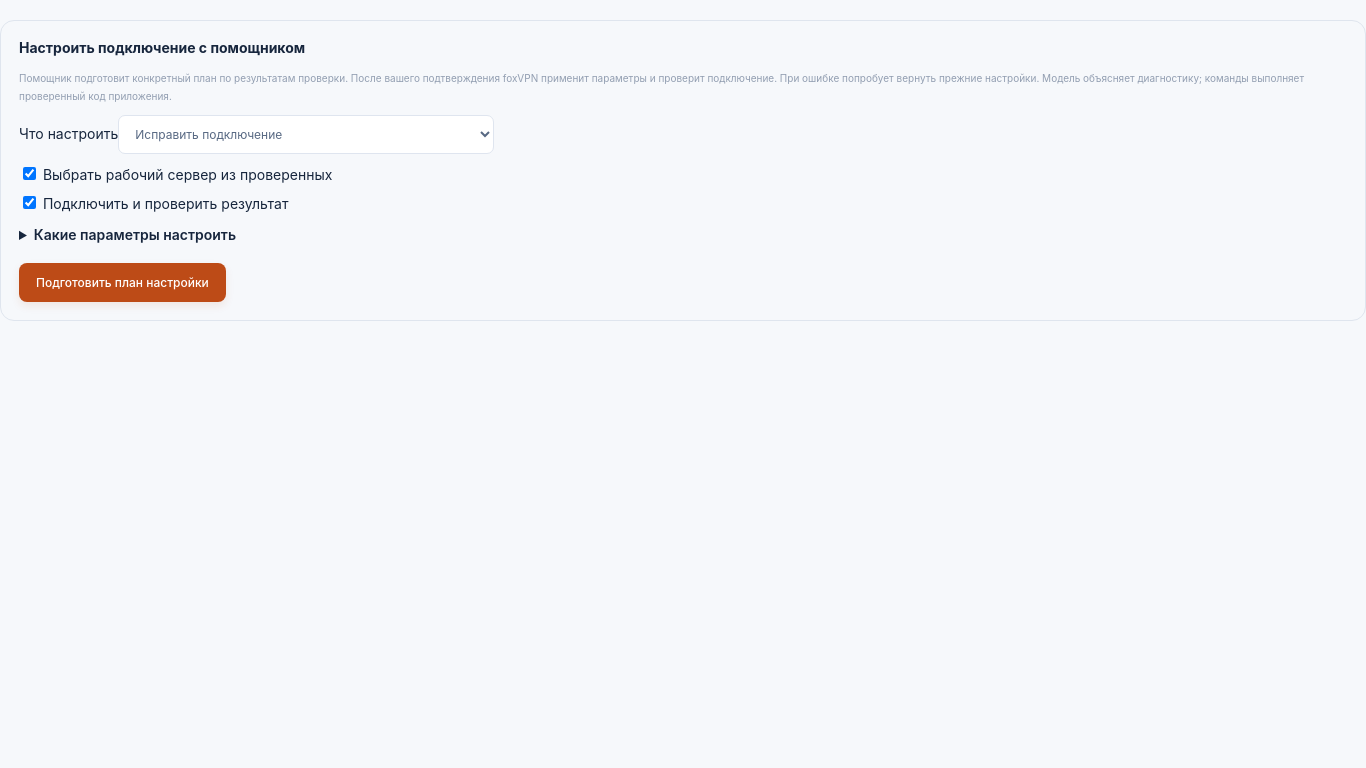
Test case: plan preview changes nothing; cancel has no effects and apply sends only opaque token and consent
Click the button "Подготовить план настройки".
click(122, 282)  # box [19,263,226,302]
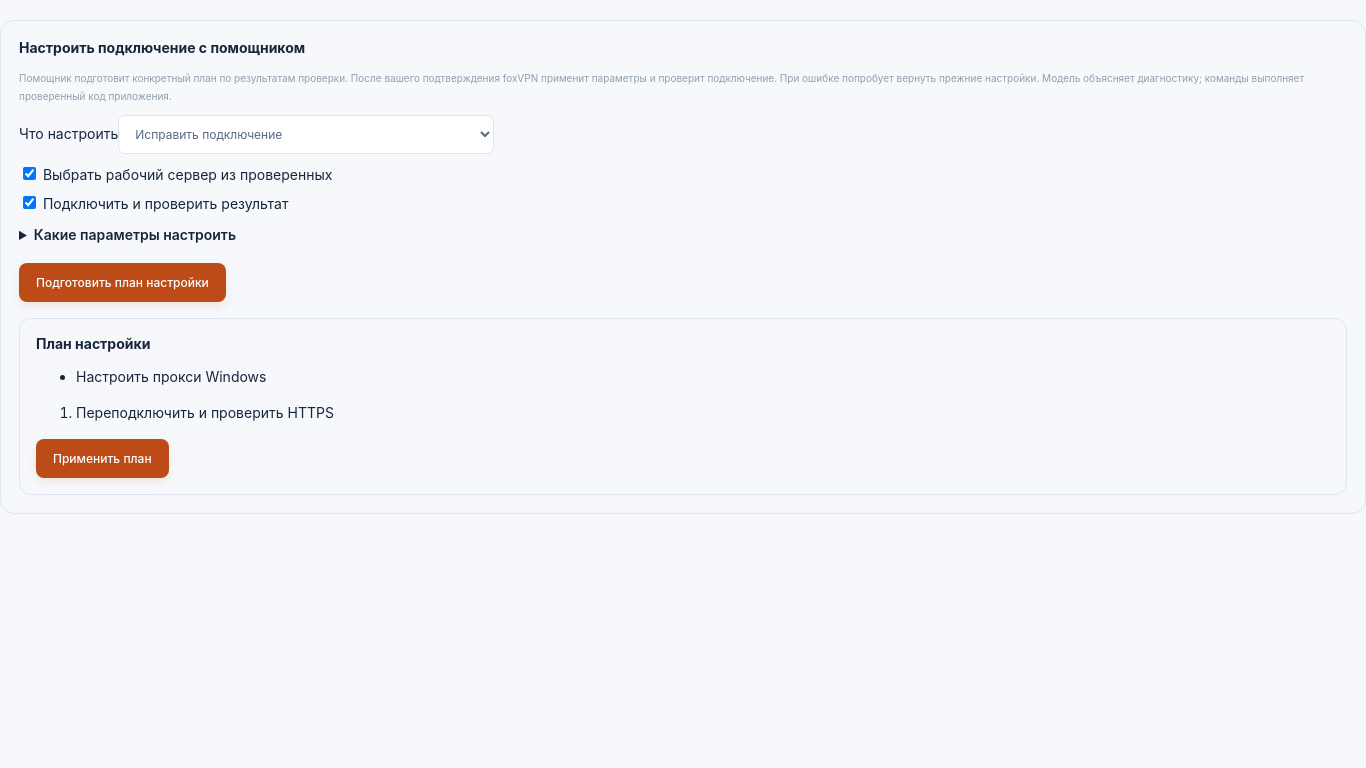
Now the text "План настройки" is shown, box [36,335,150,352]
Click the button "Применить план".
click(102, 458)  # box [36,439,169,478]
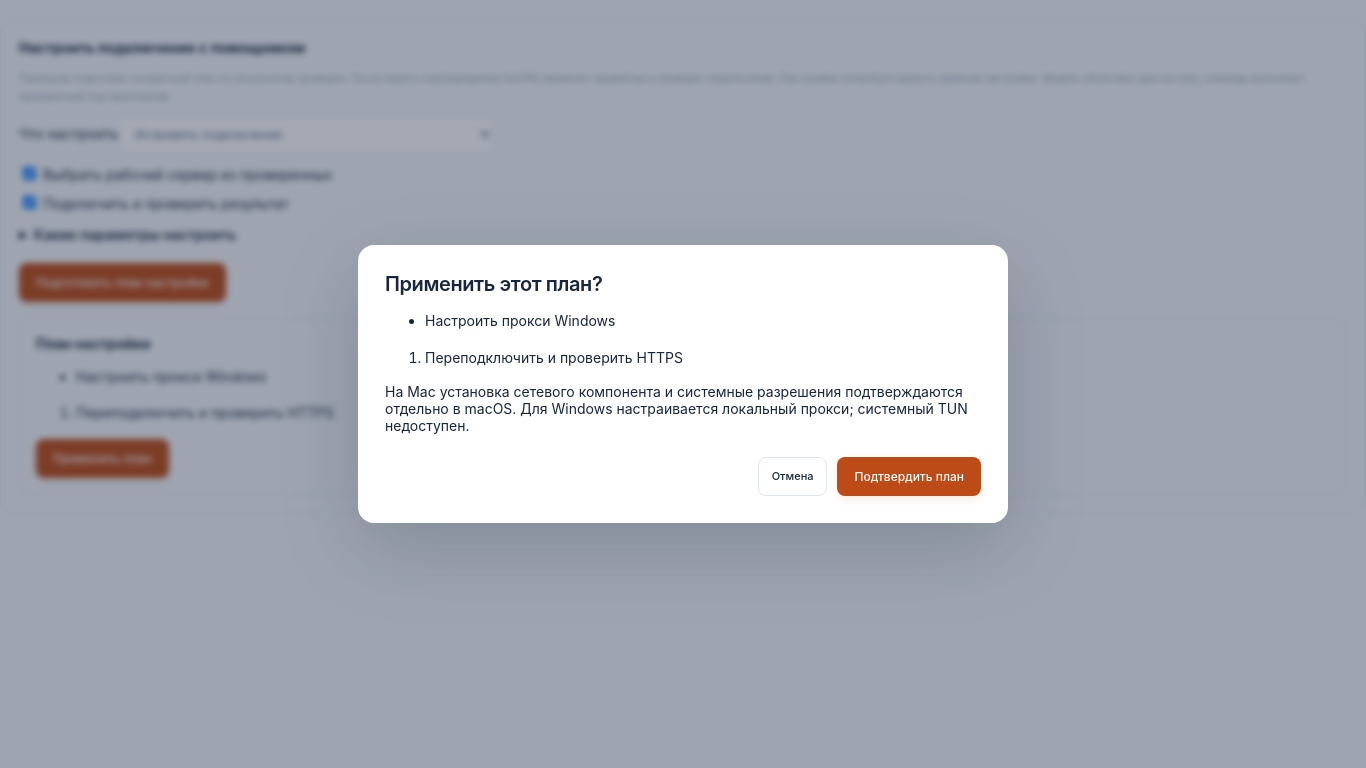
Now the dialog is shown, box [358,245,1008,523]
Click the button "Отмена".
click(793, 476)  # box [758,457,828,496]
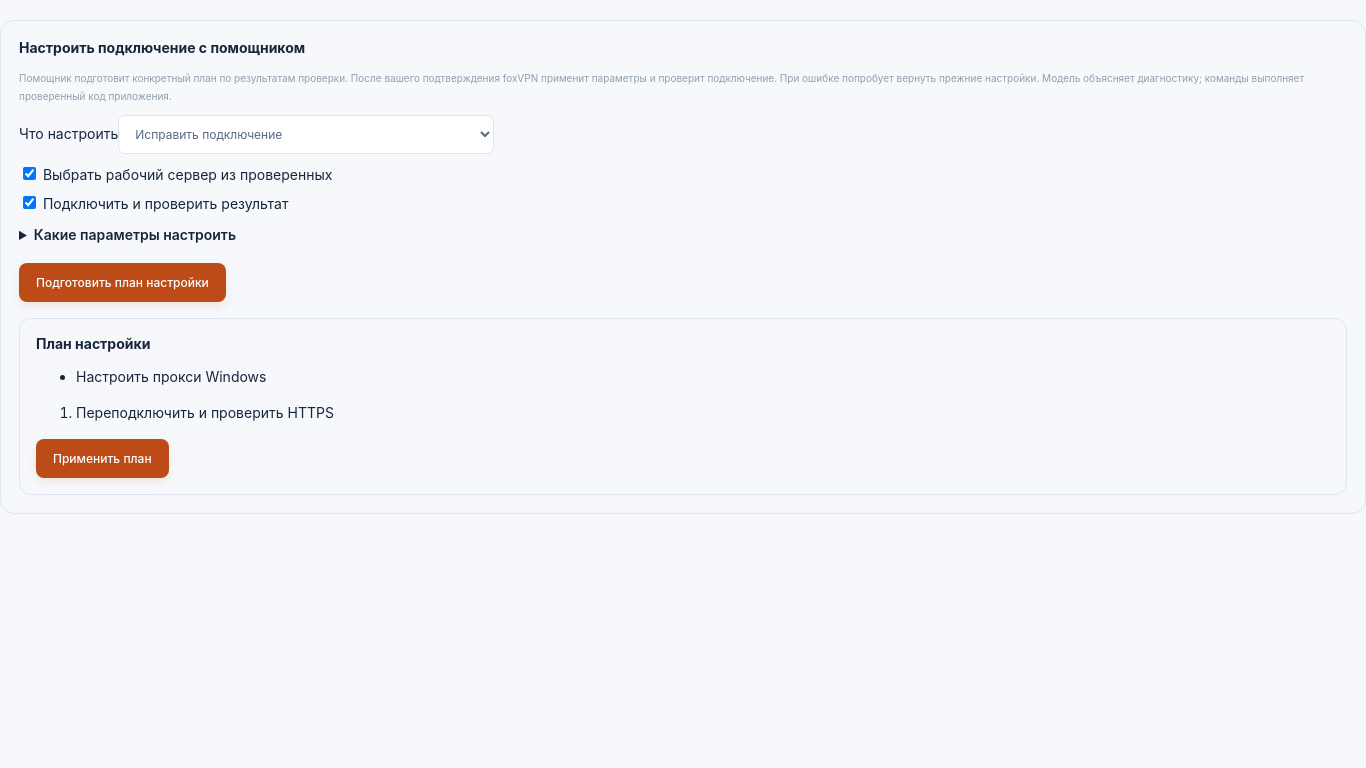
Click the button "Применить план".
click(102, 458)  # box [36,439,169,478]
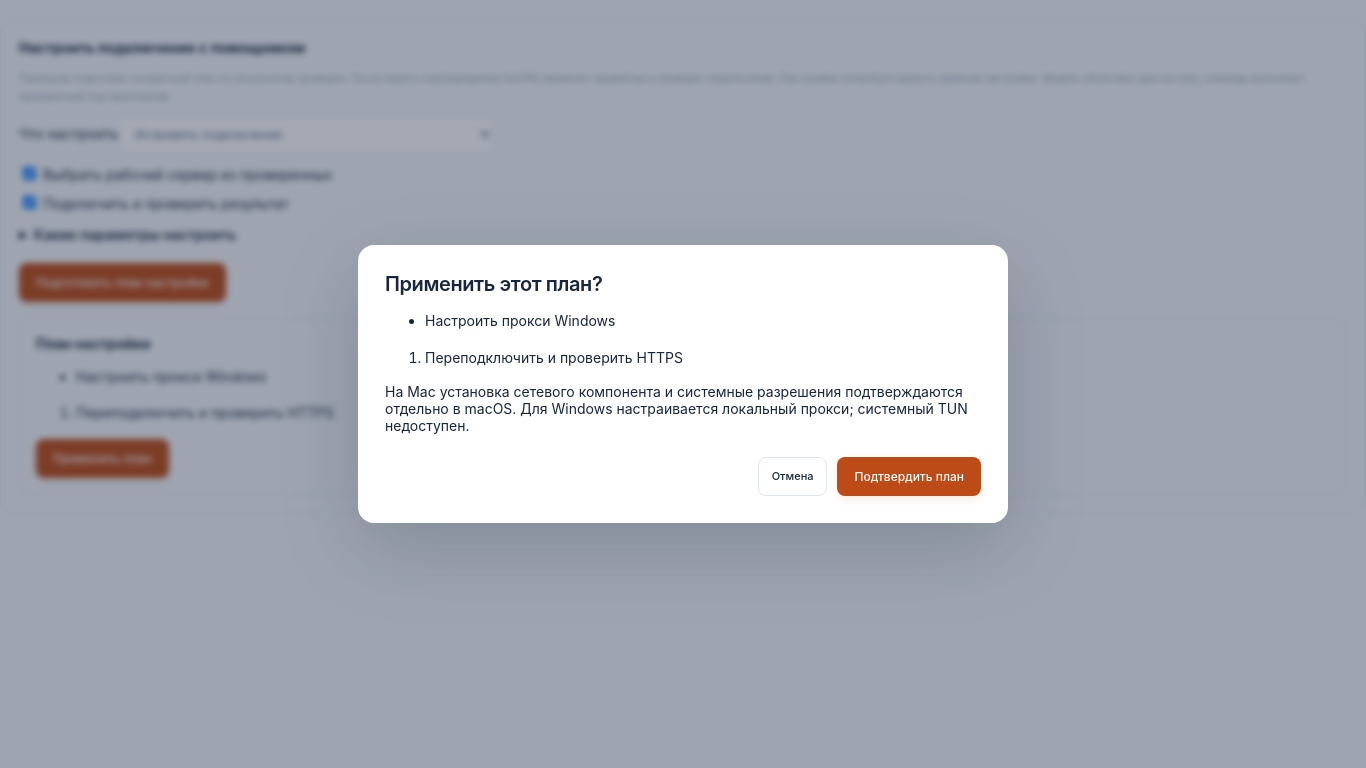
Click the button "Подтвердить план".
click(909, 476)  # box [838,457,981,496]
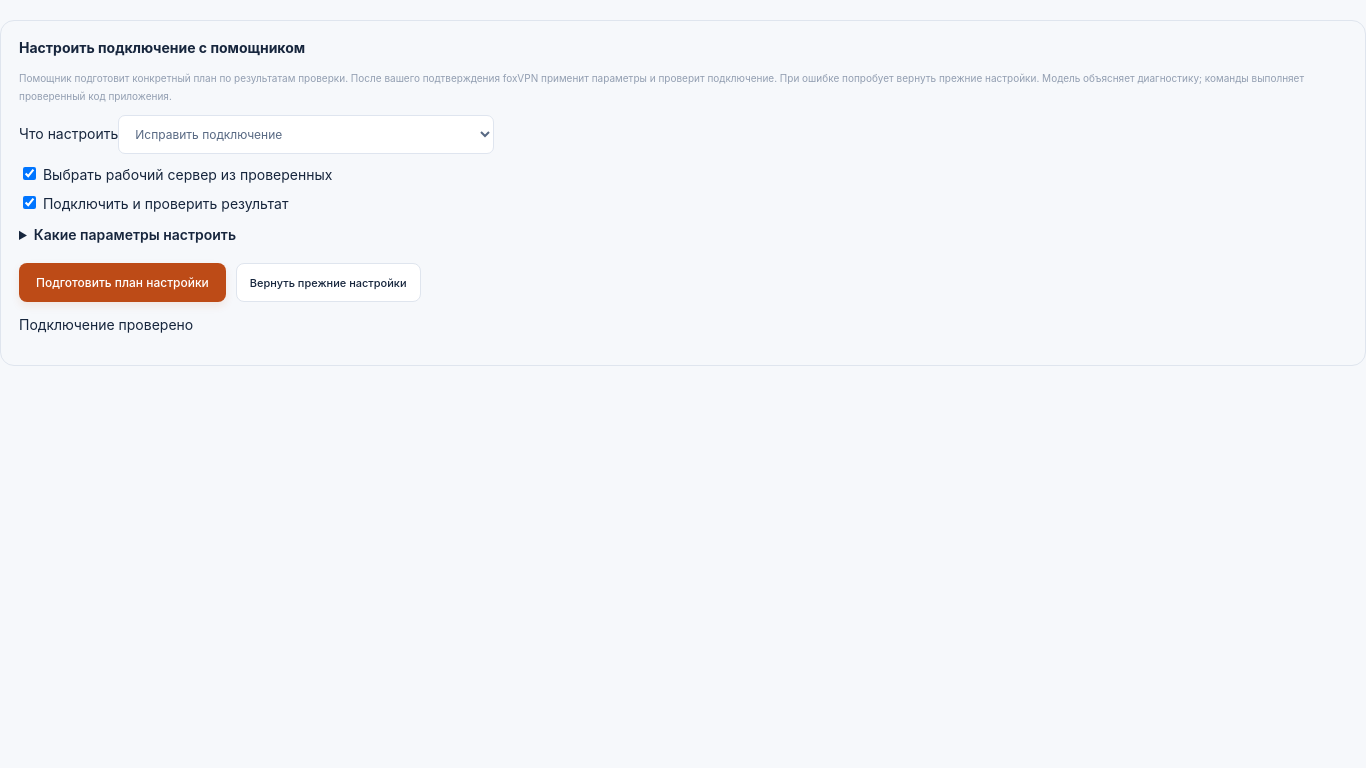
Now the text "Подключение проверено" is shown, box [19,316,193,333]
